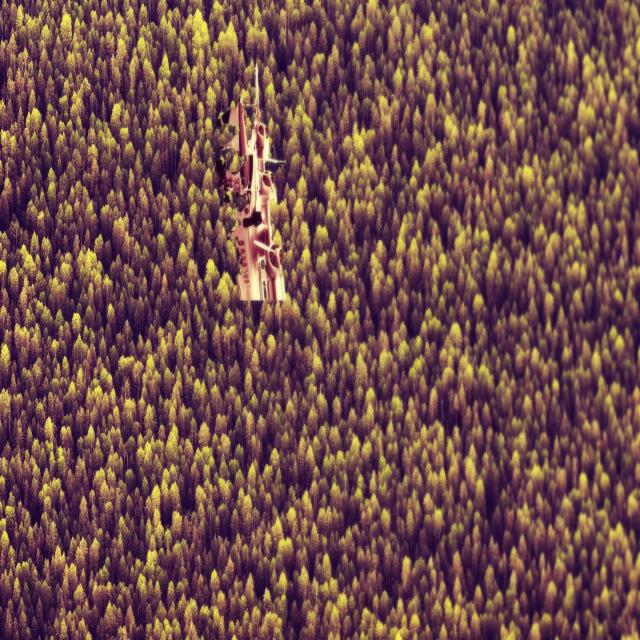airplane: (216, 61, 286, 307)
